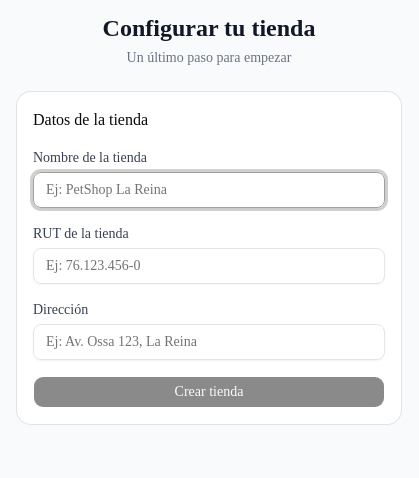
Scenario: OnboardingPage (C-74) › C-74: error de la API se muestra en pantalla y no redirige
The width and height of the screenshot is (419, 478).
Type "Mi Tienda" into the field labelled "Nombre de la tienda" at (209, 190), box [33,172,385,208]
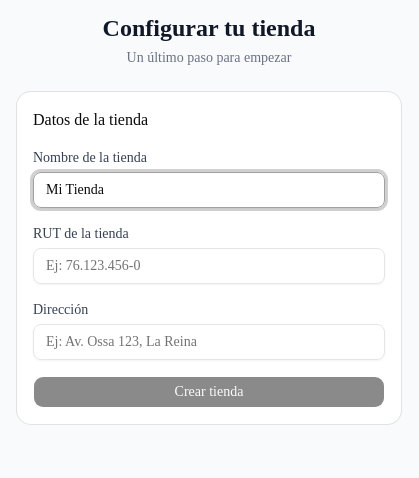
Type "76.123.456-0" into the field labelled "RUT de la tienda" at (209, 266), box [33,248,385,284]
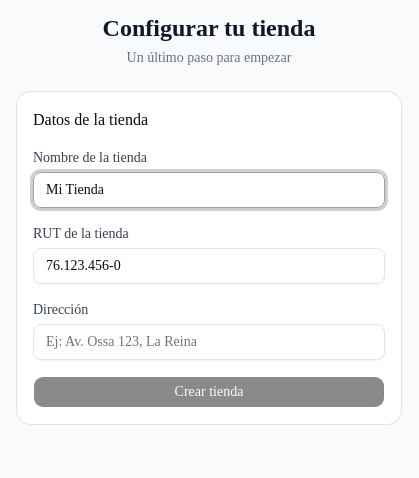
Type "Av. Ossa 123" into the field labelled "Dirección" at (209, 342), box [33,324,385,360]
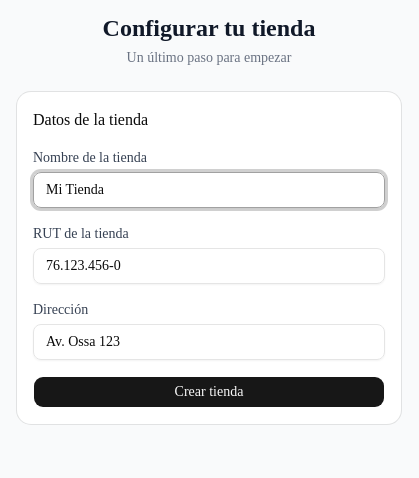
Click the button "Crear tienda" at (209, 392), box [33,376,385,408]
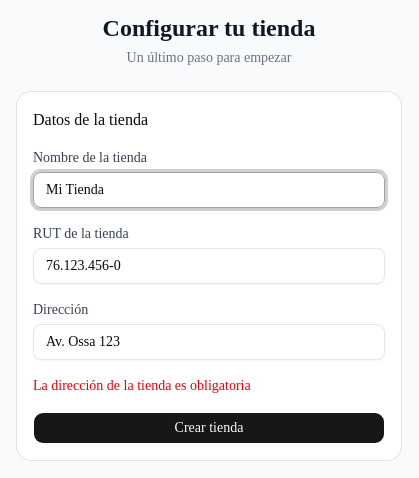
Expected: the text "La dirección de la tienda es obligatoria" is shown, [33,378,251,393]
